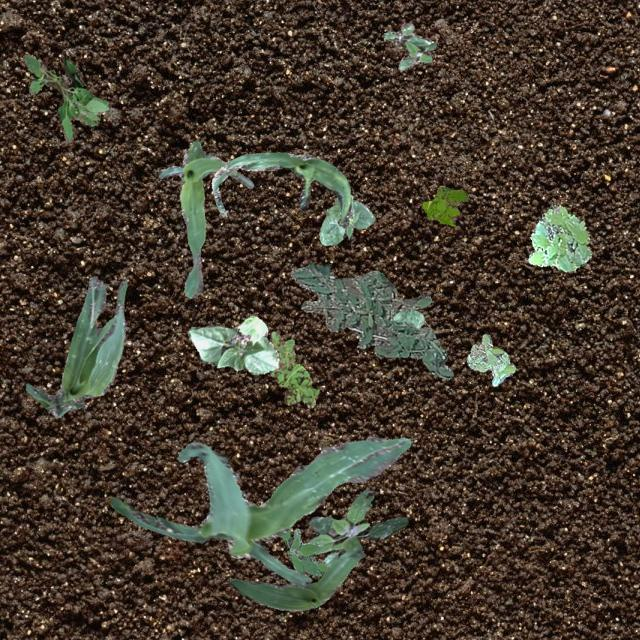crop: (110, 436, 412, 584), (156, 140, 252, 296), (24, 276, 126, 416), (210, 152, 350, 228), (228, 545, 364, 611), (186, 314, 278, 374), (318, 193, 374, 244), (388, 308, 424, 328)
weed: (288, 262, 452, 378), (304, 488, 406, 566), (20, 52, 109, 140), (526, 202, 590, 270), (268, 329, 318, 406), (466, 332, 514, 386), (380, 22, 436, 68), (278, 528, 328, 576), (422, 186, 466, 224)
